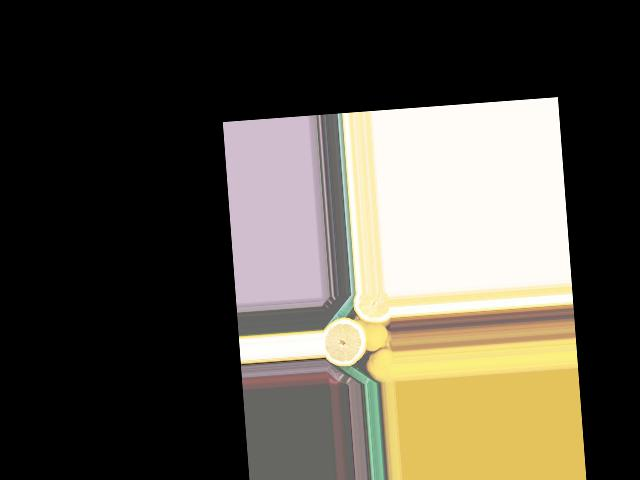lemon: (356, 316, 390, 351)
